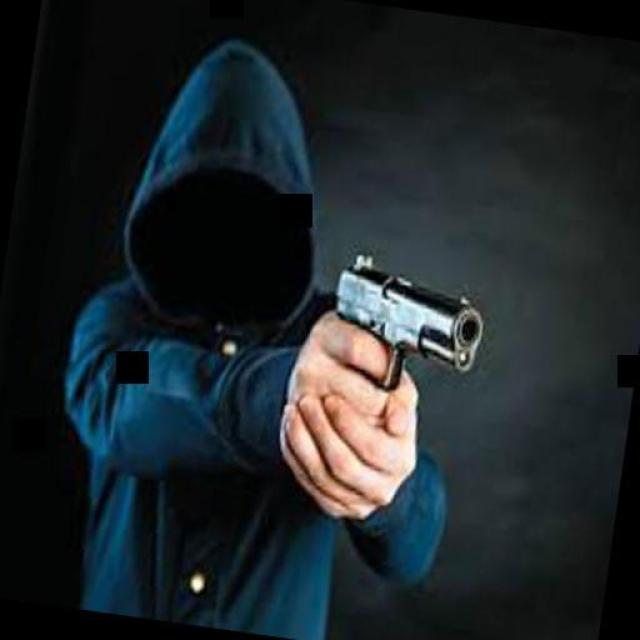gun: (312, 245, 492, 473)
